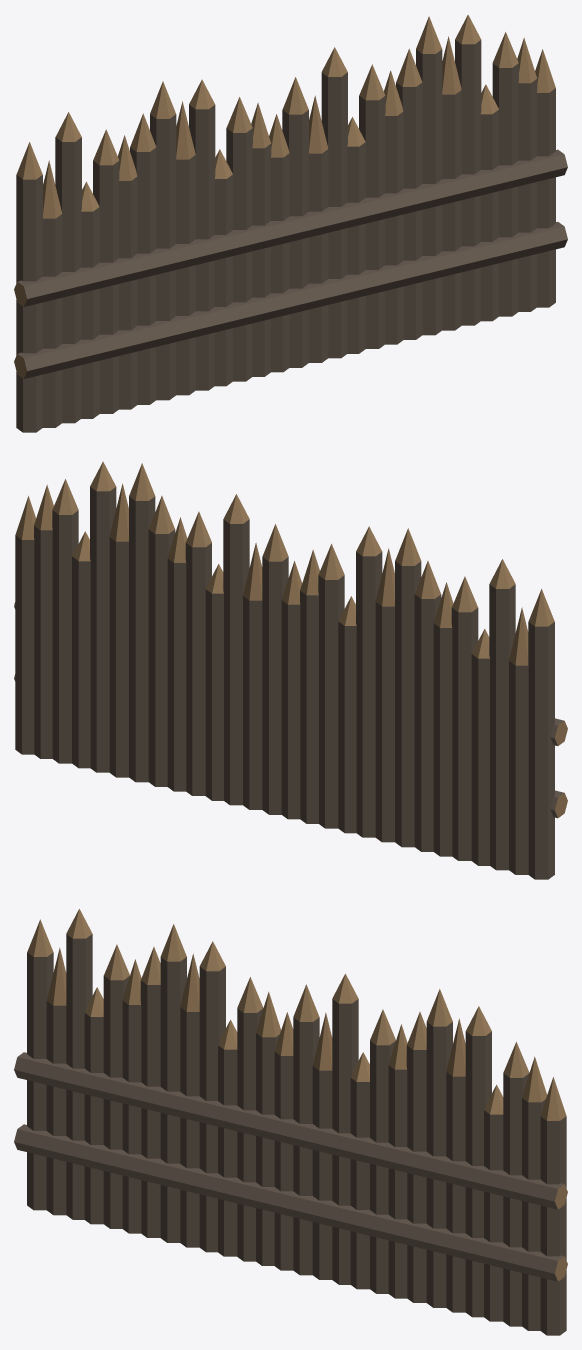
The model's file is Wood_Wall_03.fbx.
The picture shows the model from 3 angles, top to bottom: view 1: azimuth 30°, elevation 25°; view 2: azimuth 150°, elevation 25°; view 3: azimuth 330°, elevation 25°; orthographic projection.
Visible parts, largest first — view 1: pCylinder606; view 2: pCylinder606; view 3: pCylinder606.
Boxes of the visible parts, box(x1,y1,x2,y2) form: pCylinder606: box(14, 14, 567, 432); pCylinder606: box(14, 461, 567, 879); pCylinder606: box(14, 909, 567, 1335).
Size of the model in its own units: 8.03 by 4.46 by 0.4776.
